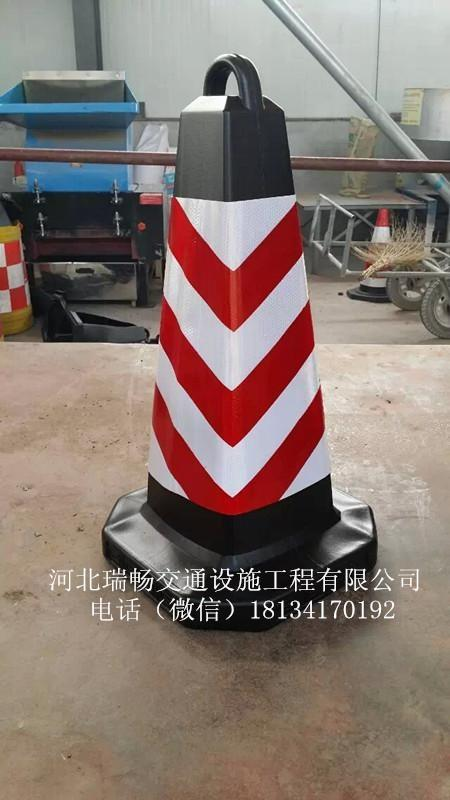cone_barrel: (117, 60, 358, 605), (367, 206, 393, 244)
